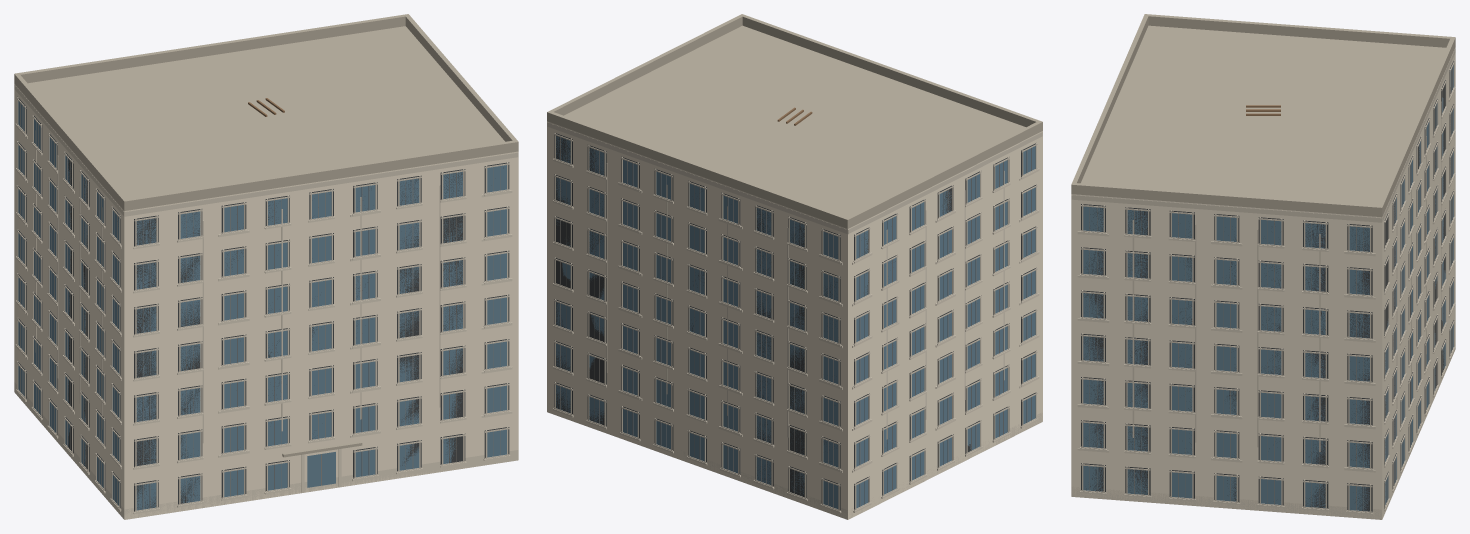
The model's file is cop_art_deco_carioca_05__way_134013759.fbx.
The picture shows the model from 3 angles, left to right: view 1: azimuth 30°, elevation 25°; view 2: azimuth 150°, elevation 25°; view 3: azimuth 270°, elevation 25°; orthographic projection. The views are drawn at different scales.
Visible parts, largest first — view 1: cop_art_deco_carioca_05__way_134013759_wall, cop_art_deco_carioca_05__way_134013759_roof, cop_art_deco_carioca_05__way_134013759_glass, cop_art_deco_carioca_05__way_134013759_trim, cop_art_deco_carioca_05__way_134013759_shadow, cop_art_deco_carioca_05__way_134013759_stone, cop_art_deco_carioca_05__way_134013759_metal; view 2: cop_art_deco_carioca_05__way_134013759_wall, cop_art_deco_carioca_05__way_134013759_roof, cop_art_deco_carioca_05__way_134013759_glass, cop_art_deco_carioca_05__way_134013759_trim, cop_art_deco_carioca_05__way_134013759_shadow, cop_art_deco_carioca_05__way_134013759_stone, cop_art_deco_carioca_05__way_134013759_metal; view 3: cop_art_deco_carioca_05__way_134013759_wall, cop_art_deco_carioca_05__way_134013759_roof, cop_art_deco_carioca_05__way_134013759_glass, cop_art_deco_carioca_05__way_134013759_trim, cop_art_deco_carioca_05__way_134013759_shadow, cop_art_deco_carioca_05__way_134013759_stone, cop_art_deco_carioca_05__way_134013759_metal.
Part boxes in pixels (<box>): cop_art_deco_carioca_05__way_134013759_wall: <box>14,84,518,519</box>; cop_art_deco_carioca_05__way_134013759_roof: <box>14,14,518,457</box>; cop_art_deco_carioca_05__way_134013759_glass: <box>18,101,506,510</box>; cop_art_deco_carioca_05__way_134013759_trim: <box>14,85,518,511</box>; cop_art_deco_carioca_05__way_134013759_shadow: <box>17,96,509,511</box>; cop_art_deco_carioca_05__way_134013759_stone: <box>14,123,518,519</box>; cop_art_deco_carioca_05__way_134013759_metal: <box>20,103,500,509</box>; cop_art_deco_carioca_05__way_134013759_wall: <box>547,121,1042,519</box>; cop_art_deco_carioca_05__way_134013759_roof: <box>547,14,1042,228</box>; cop_art_deco_carioca_05__way_134013759_glass: <box>556,135,1035,509</box>; cop_art_deco_carioca_05__way_134013759_trim: <box>547,122,1042,510</box>; cop_art_deco_carioca_05__way_134013759_shadow: <box>554,133,1036,510</box>; cop_art_deco_carioca_05__way_134013759_stone: <box>549,158,1042,519</box>; cop_art_deco_carioca_05__way_134013759_metal: <box>560,137,1031,507</box>; cop_art_deco_carioca_05__way_134013759_wall: <box>1071,47,1455,519</box>; cop_art_deco_carioca_05__way_134013759_roof: <box>1071,14,1455,217</box>; cop_art_deco_carioca_05__way_134013759_glass: <box>1083,65,1453,511</box>; cop_art_deco_carioca_05__way_134013759_trim: <box>1071,48,1455,512</box>; cop_art_deco_carioca_05__way_134013759_shadow: <box>1081,61,1453,512</box>; cop_art_deco_carioca_05__way_134013759_stone: <box>1071,86,1455,519</box>; cop_art_deco_carioca_05__way_134013759_metal: <box>1089,67,1452,510</box>.
Bounding box in the file's own units: 3022 × 2277 × 2532.
